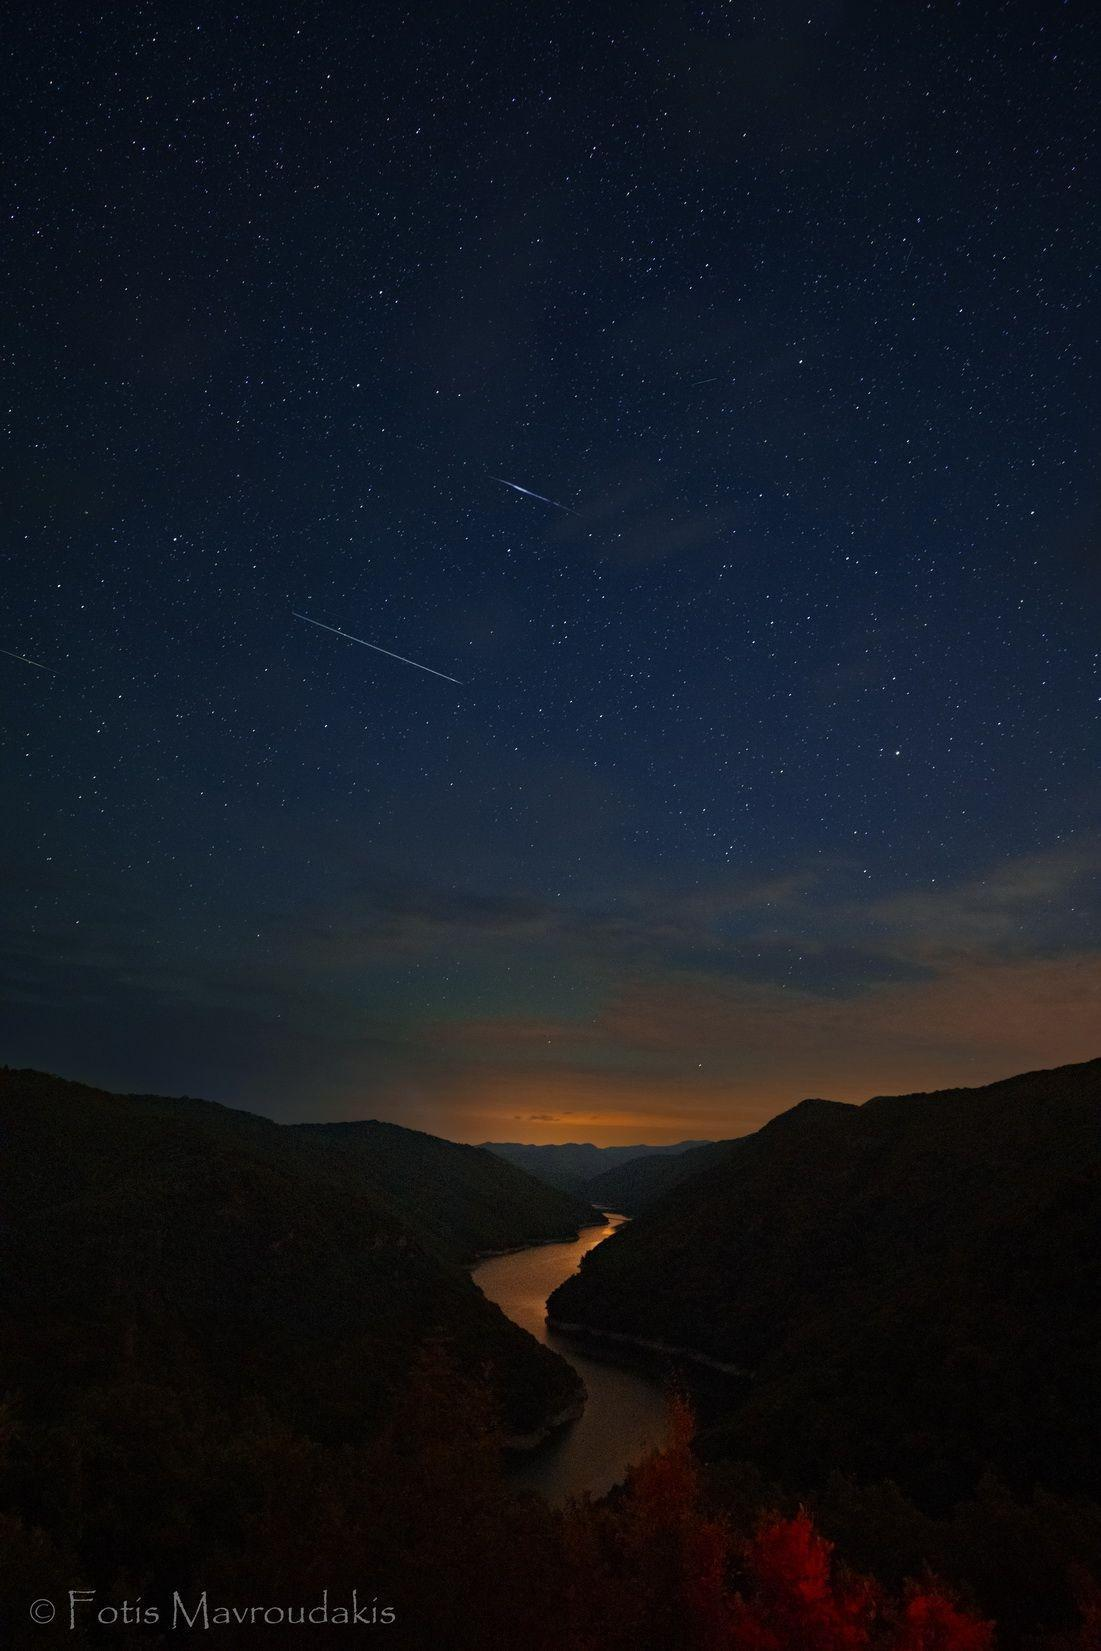meteorite: (292, 599, 482, 695), (468, 466, 594, 526), (0, 636, 59, 676)
